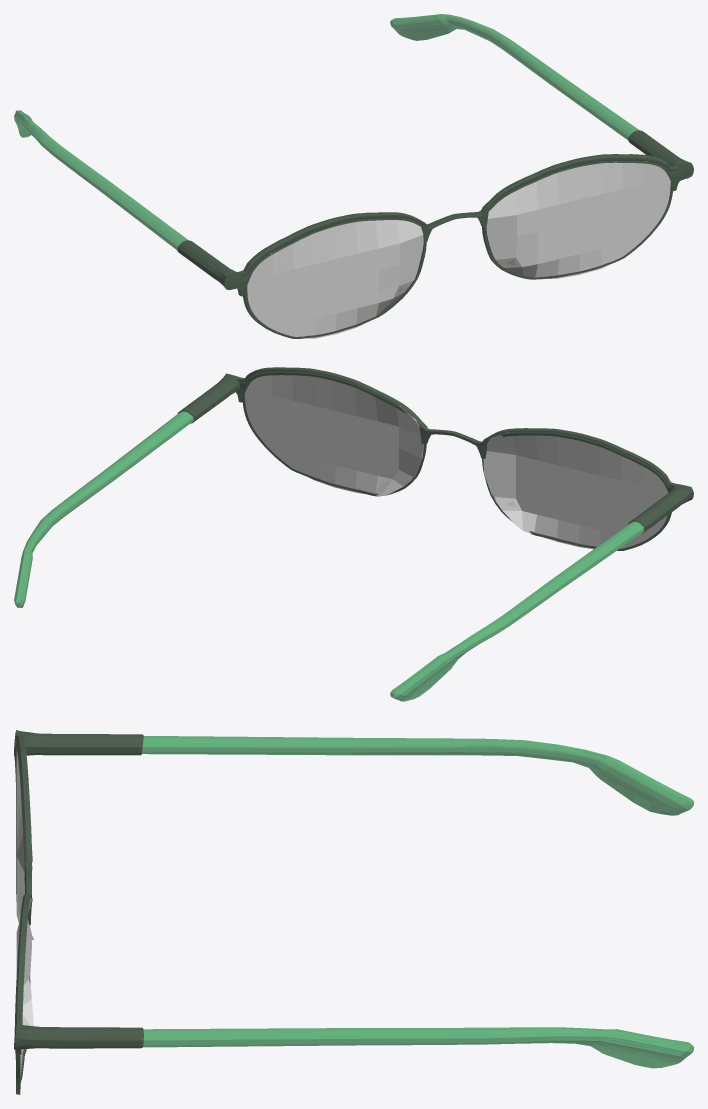
Rendered from 6-Gray.glb.
3 renders of one model, top to bottom at view 1: azimuth 30°, elevation 25°; view 2: azimuth 150°, elevation 25°; view 3: azimuth 270°, elevation 25°, orthographic. The views are drawn at different scales.
Visible parts, largest first — view 1: Lens, FrameFront, FrameEnd; view 2: Lens, FrameEnd, FrameFront; view 3: FrameEnd, FrameFront, Lens.
Boxes of the visible parts, x1,y1,x2,y2 form: Lens: (247,161,670,338); FrameFront: (177,130,693,338); FrameEnd: (14,14,638,250); Lens: (245,375,668,549); FrameEnd: (14,411,643,701); FrameFront: (177,367,693,550); FrameEnd: (142,736,693,1068); FrameFront: (14,730,143,1094); Lens: (16,750,34,1075).
Bounding box in the file's own units: 2.22 × 0.517 × 2.09.
